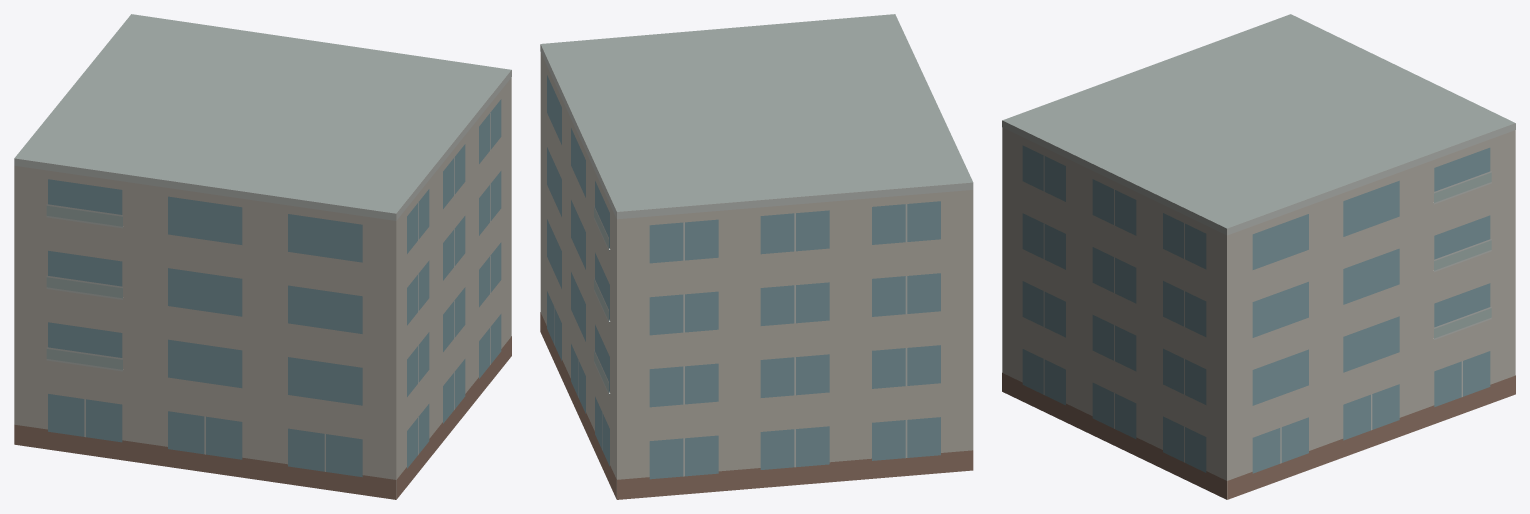
The model's file is survey-upis-32995075.glb.
3 views of the same model, side by side, from view 1: azimuth 30°, elevation 25°; view 2: azimuth 150°, elevation 25°; view 3: azimuth 270°, elevation 25° (orthographic). The views are drawn at different scales.
Parts seen in each view (by area): view 1: survey-upis-32995075.tmp; view 2: survey-upis-32995075.tmp; view 3: survey-upis-32995075.tmp.
Boxes of the visible parts, <box> form: survey-upis-32995075.tmp: <box>14,14,511,499</box>; survey-upis-32995075.tmp: <box>540,14,973,499</box>; survey-upis-32995075.tmp: <box>1002,14,1515,499</box>.
Size of the model in its own units: 16.3 by 9.6 by 16.48.
